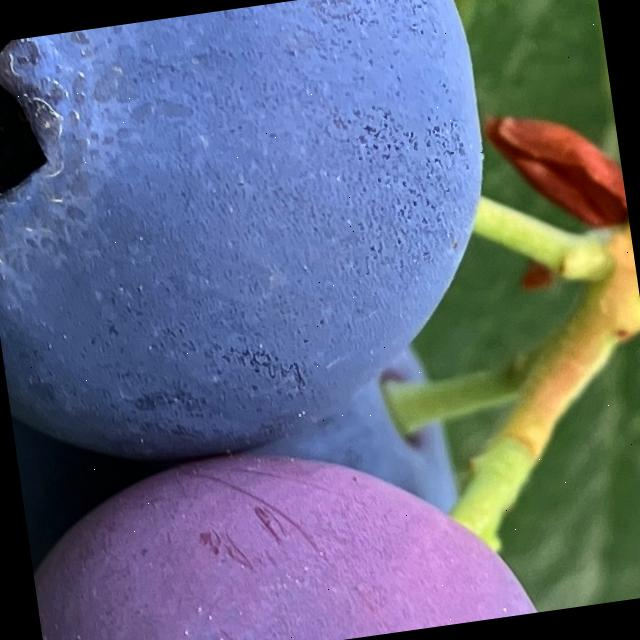Blueberries: (0, 0, 528, 483), (21, 422, 552, 640)
